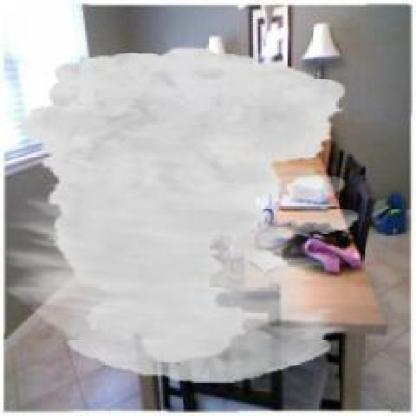Smoke: (2, 47, 359, 383)
